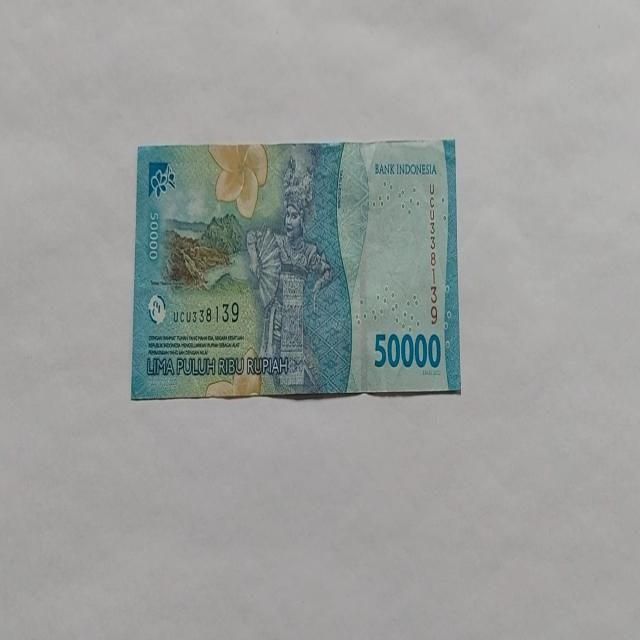lima puluh ribu rupiah: (130, 139, 461, 401)
